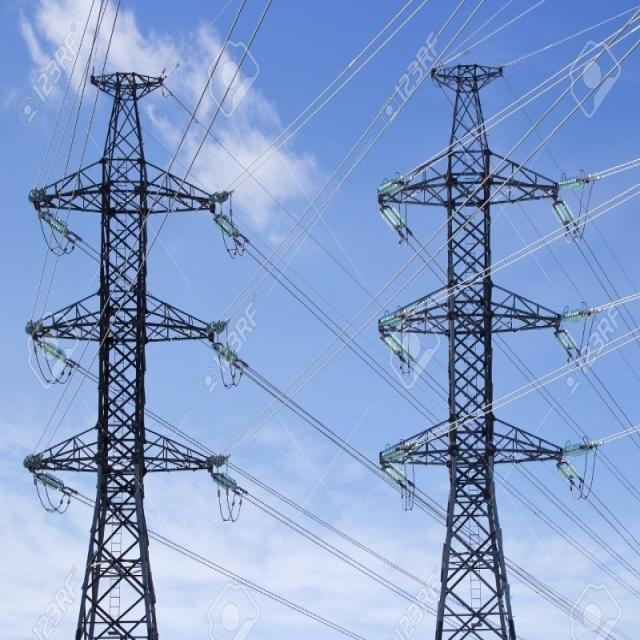non-critical vegetation: (30, 80, 213, 626), (386, 69, 564, 630)
